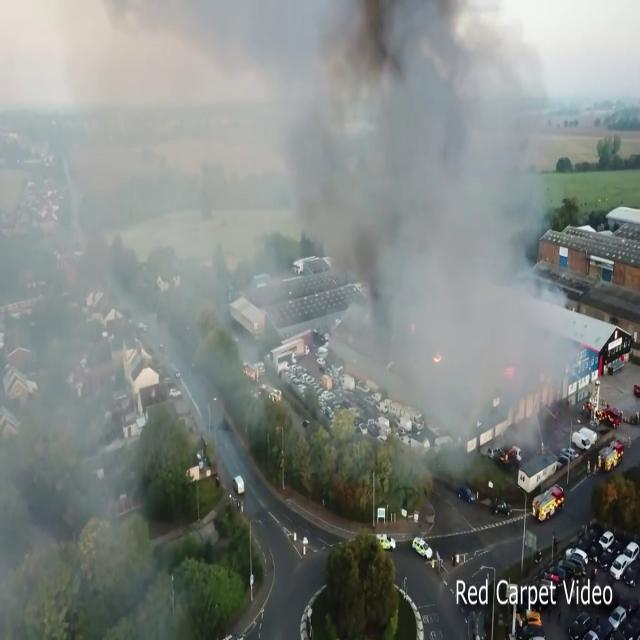Smoke: (3, 1, 604, 442)
